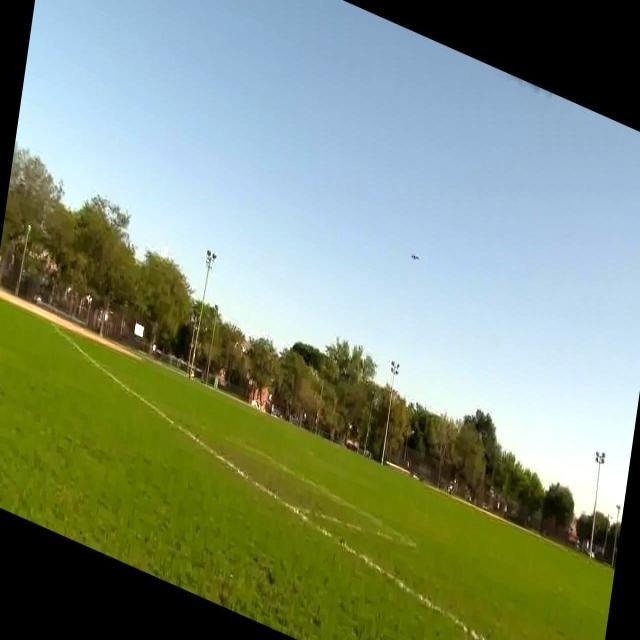drone: (406, 245, 424, 273)
